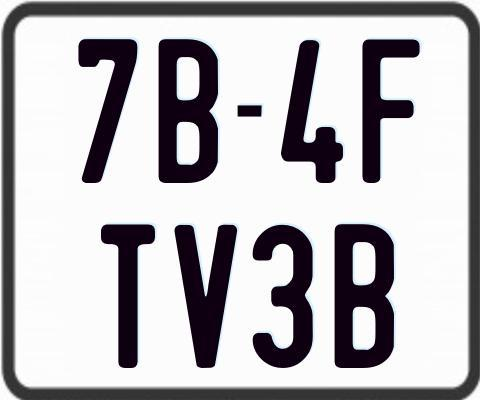3: (251, 224, 311, 369)
4: (281, 37, 348, 180)
7: (78, 37, 137, 183)
B: (332, 222, 397, 369), (156, 36, 215, 181)
F: (360, 39, 423, 183)
T: (99, 223, 159, 370)
V: (174, 222, 242, 365)
